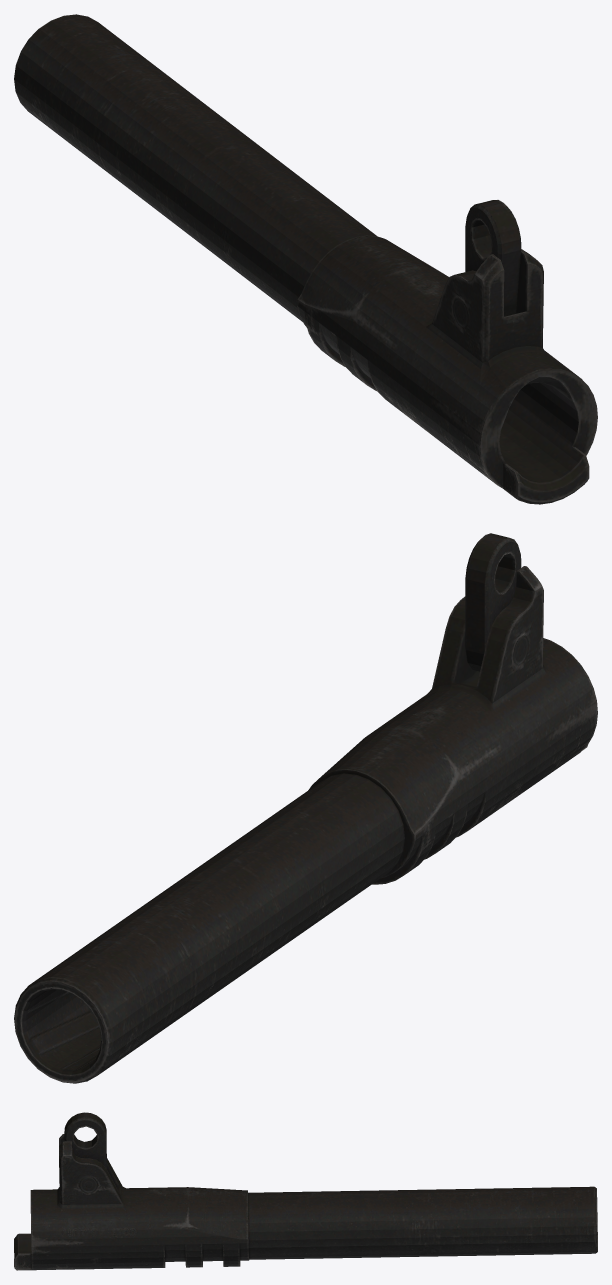
The picture shows the model from 3 angles, top to bottom: view 1: azimuth 30°, elevation 25°; view 2: azimuth 150°, elevation 25°; view 3: azimuth 270°, elevation 25°; orthographic projection. The views are drawn at different scales.
Parts seen in each view (by area): view 1: TW_5e81c519cb2b95385c177551_PZ_Import; view 2: TW_5e81c519cb2b95385c177551_PZ_Import; view 3: TW_5e81c519cb2b95385c177551_PZ_Import.
Part boxes in pixels (x1,y1,x2,y2): TW_5e81c519cb2b95385c177551_PZ_Import: (14,14,597,504); TW_5e81c519cb2b95385c177551_PZ_Import: (14,533,597,1083); TW_5e81c519cb2b95385c177551_PZ_Import: (14,1112,597,1270).
Bounding box in the file's own units: 0.0102 × 0.0739 × 0.0212.
1 material, 1 textured.
